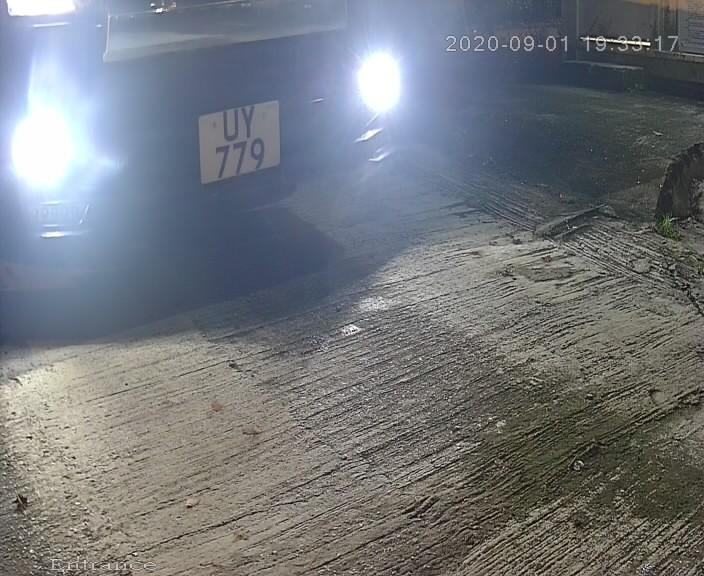License Plate: (189, 91, 290, 196)
